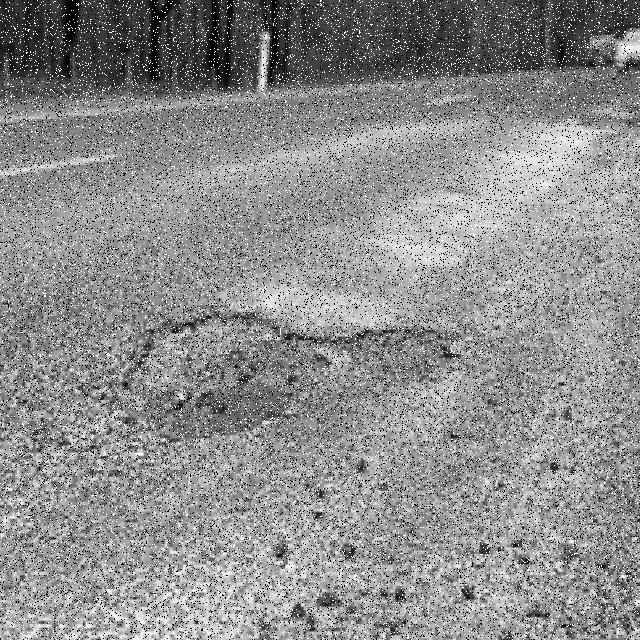pothole: (120, 316, 333, 442)
